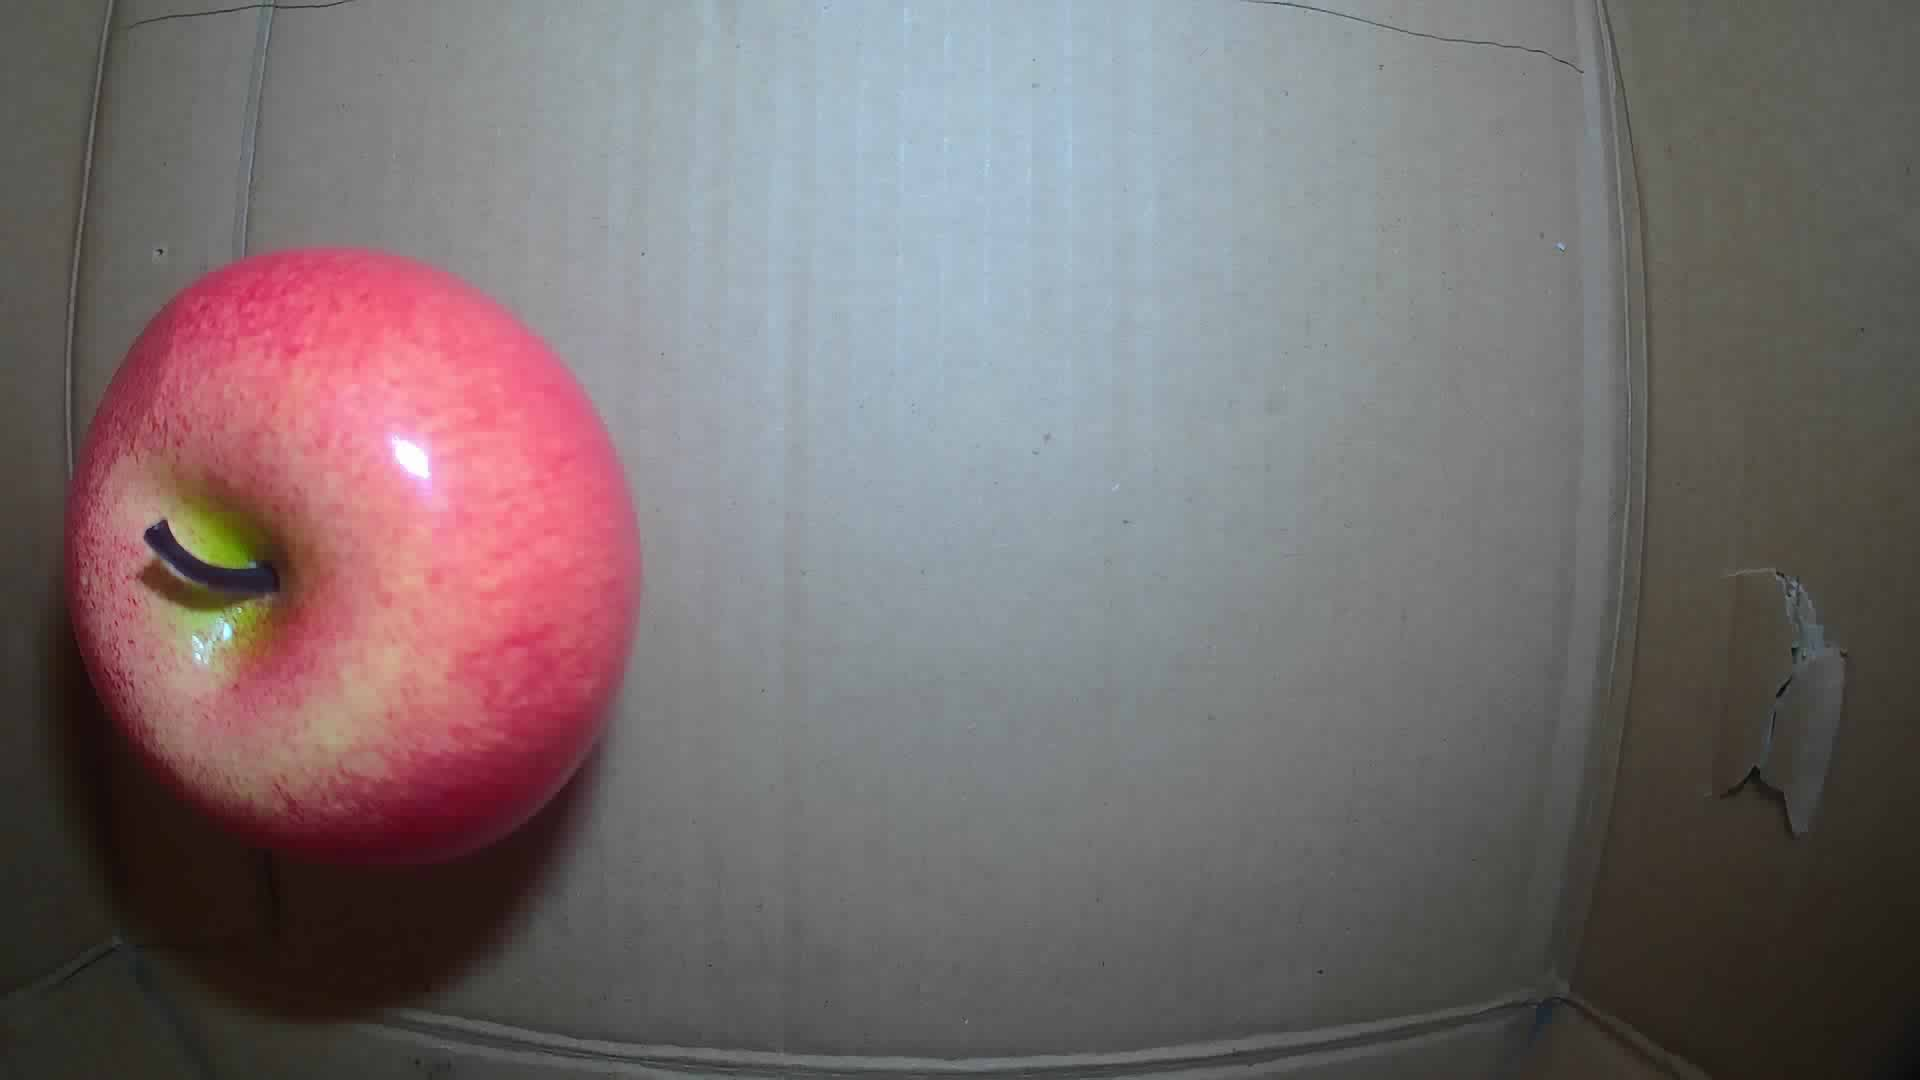apple: (61, 243, 647, 876)
